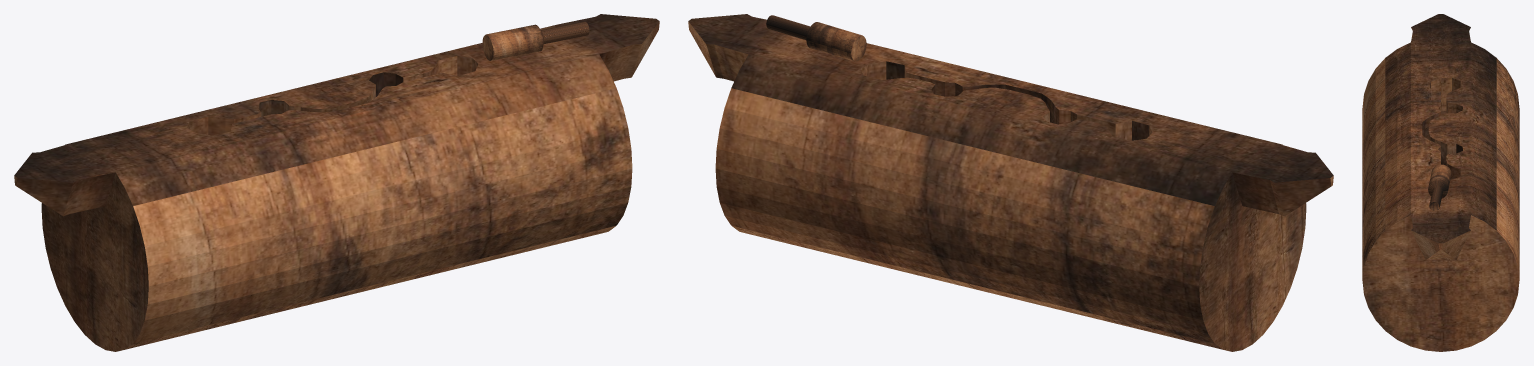
The model's file is tuntui.glb.
3 renders of one model, left to right at view 1: azimuth 30°, elevation 25°; view 2: azimuth 150°, elevation 25°; view 3: azimuth 270°, elevation 25°, orthographic. The views are drawn at different scales.
Visible parts, largest first — view 1: Cylinder, Cylinder.001; view 2: Cylinder, Cylinder.001; view 3: Cylinder, Cylinder.001.
Part boxes in pixels (left/top/right/bottom): Cylinder: left=14, top=14, right=659, bottom=351; Cylinder.001: left=482, top=21, right=589, bottom=61; Cylinder: left=688, top=14, right=1333, bottom=351; Cylinder.001: left=766, top=15, right=866, bottom=61; Cylinder: left=1362, top=14, right=1519, bottom=351; Cylinder.001: left=1428, top=164, right=1451, bottom=210.
Bounding box in the file's own units: 4.01 × 1.27 × 1.16.
Materials: 1 (1 with a texture image).
